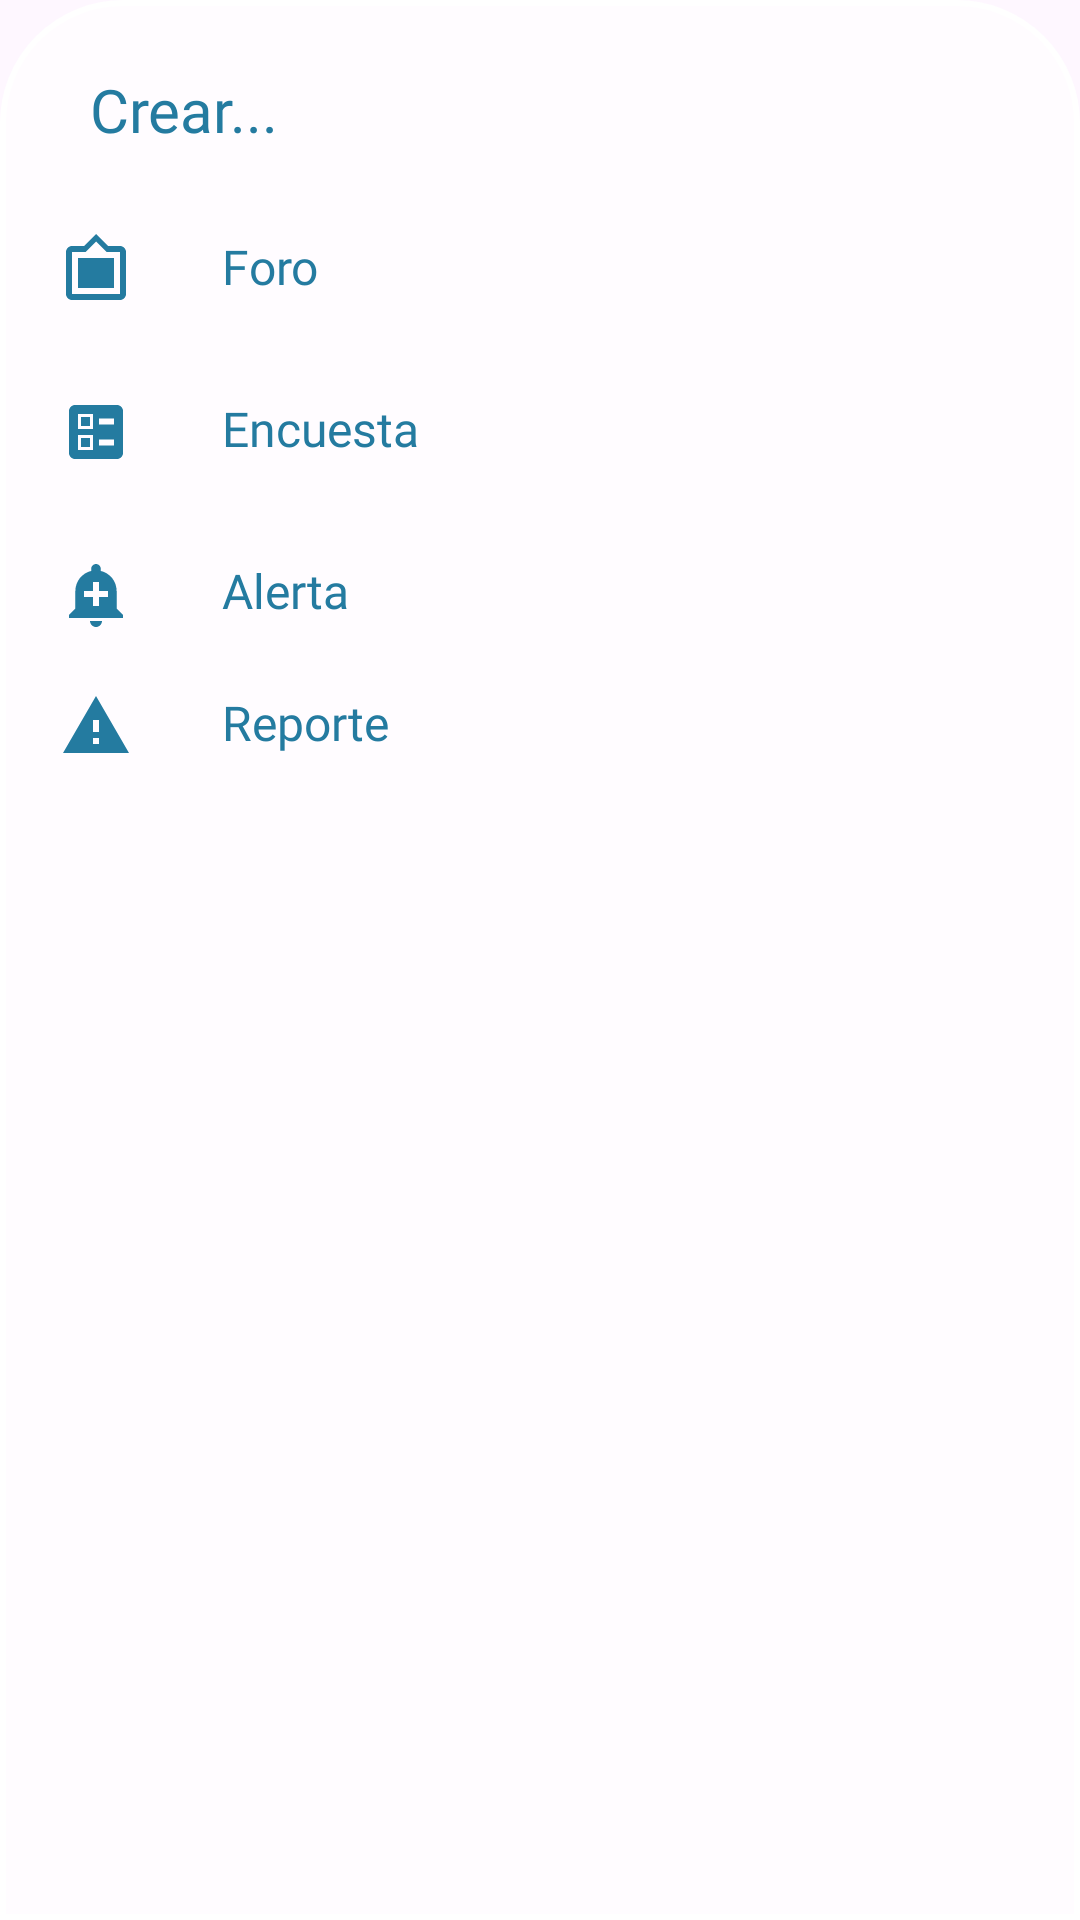

Screen size 1080 x 1920. Icon name, then its box in pixels as (x1, y1, x2, y2):
add alert: (69, 564, 123, 627)
ballot: (69, 405, 123, 459)
report problem: (63, 696, 129, 753)
